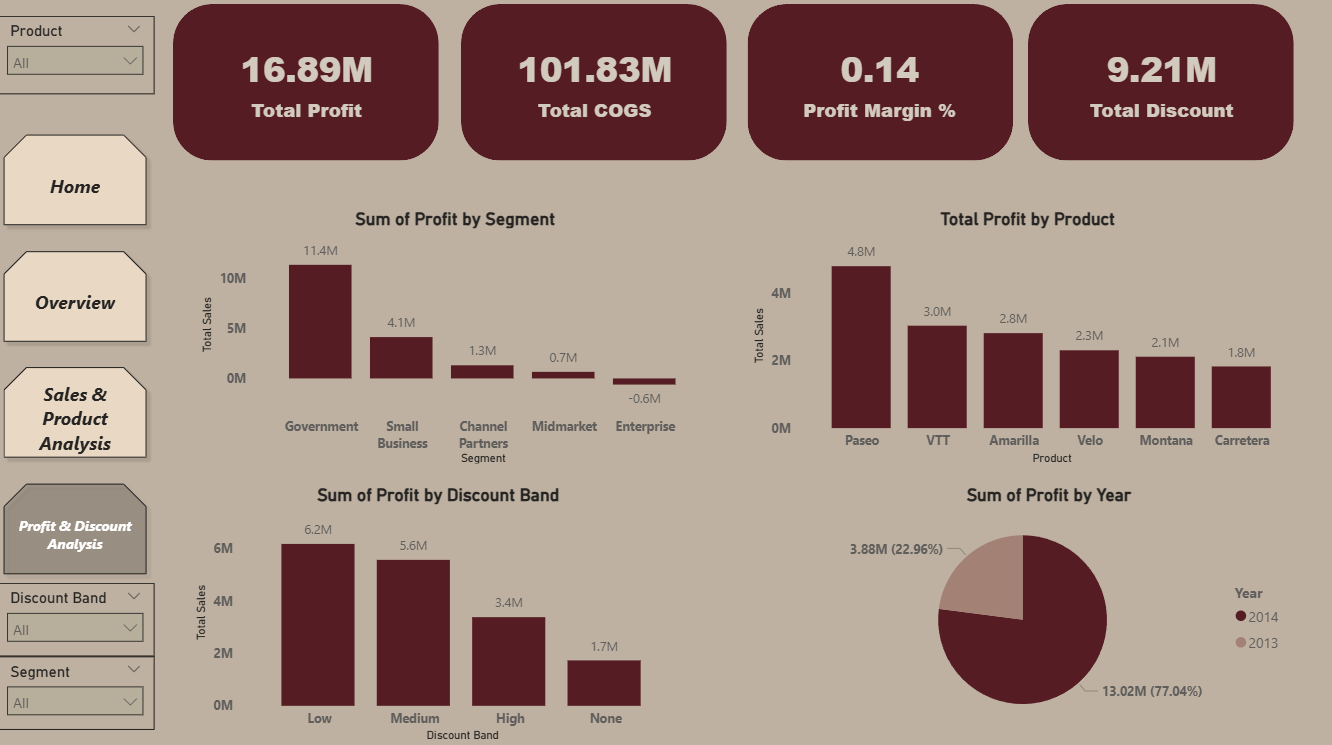

The page's visual inventory and layout, read from the dashboard file:
{"tool":"powerbi","page":{"name":"Profit & Discount Analysis","canvas":[1280,720],"ordinal":3},"visuals":[{"type":"pageNavigator","box":[0,129.4,151.8,436.2],"z":0},{"type":"shape","box":[169.2,11.4,253.7,149.6],"z":1000},{"type":"shape","box":[717.3,11.4,253.7,149.6],"z":2000},{"type":"shape","box":[985.7,11.4,253.7,149.6],"z":3000},{"type":"shape","box":[444,11.4,253.7,149.6],"z":4000},{"type":"card","fields":{"Values":["financials.Total Profit"]},"box":[201.7,22.8,188.7,126.9],"z":5000},{"type":"card","fields":{"Values":["financials.Total COGS"]},"box":[476.6,22.8,188.7,126.9],"z":6000},{"type":"card","fields":{"Values":["financials.Profit Margin %"]},"box":[749.8,22.8,188.7,126.9],"z":7000},{"type":"card","fields":{"Values":["financials.Total Discount"]},"box":[1018.2,22.8,188.7,126.9],"z":8000},{"type":"columnChart","fields":{"Category":["financials.Segment"],"Y":["Sum(financials.Profit)"]},"box":[190.3,206.6,496.1,248.9],"z":9000},{"type":"columnChart","fields":{"Category":["financials.Discount Band"],"Y":["Sum(financials.Profit)"]},"box":[185.4,470.1,475,250.5],"z":10000},{"type":"columnChart","fields":{"Category":["financials.Product"],"Y":["financials.Total Profit"]},"box":[717.3,206.6,535.1,248.9],"z":11000},{"type":"pieChart","fields":{"Category":["financials.Year"],"Y":["Sum(financials.Profit)"]},"box":[772.6,470.1,466.8,239.1],"z":12000},{"type":"slicer","fields":{"Values":["financials.Discount Band"]},"box":[0,564.4,151.3,69.9],"z":13000},{"type":"slicer","fields":{"Values":["financials.Segment"]},"box":[0,634.4,151.3,69.9],"z":14000},{"type":"slicer","fields":{"Values":["financials.Product"]},"box":[0,22.8,151.3,74.8],"z":15000}]}

Visuals, with their boxes in screenshot pixels (x1, y1, x2, y2), scaled from the page's 1280x720 canvas onto the 1332x745 screenshot:
pageNavigator: (x1=0, y1=134, x2=158, y2=585)
shape: (x1=176, y1=12, x2=440, y2=167)
shape: (x1=746, y1=12, x2=1010, y2=167)
shape: (x1=1026, y1=12, x2=1290, y2=167)
shape: (x1=462, y1=12, x2=726, y2=167)
card - financials.Total Profit: (x1=210, y1=24, x2=406, y2=155)
card - financials.Total COGS: (x1=496, y1=24, x2=692, y2=155)
card - financials.Profit Margin %: (x1=780, y1=24, x2=977, y2=155)
card - financials.Total Discount: (x1=1060, y1=24, x2=1256, y2=155)
columnChart - financials.Segment x Sum(financials.Profit): (x1=198, y1=214, x2=714, y2=471)
columnChart - financials.Discount Band x Sum(financials.Profit): (x1=193, y1=486, x2=687, y2=744)
columnChart - financials.Product x financials.Total Profit: (x1=746, y1=214, x2=1303, y2=471)
pieChart - financials.Year x Sum(financials.Profit): (x1=804, y1=486, x2=1290, y2=734)
slicer - financials.Discount Band: (x1=0, y1=584, x2=157, y2=656)
slicer - financials.Segment: (x1=0, y1=656, x2=157, y2=729)
slicer - financials.Product: (x1=0, y1=24, x2=157, y2=101)
